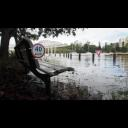preferencia: (94, 50, 102, 57)
speed_limit_40: (32, 44, 45, 58)
